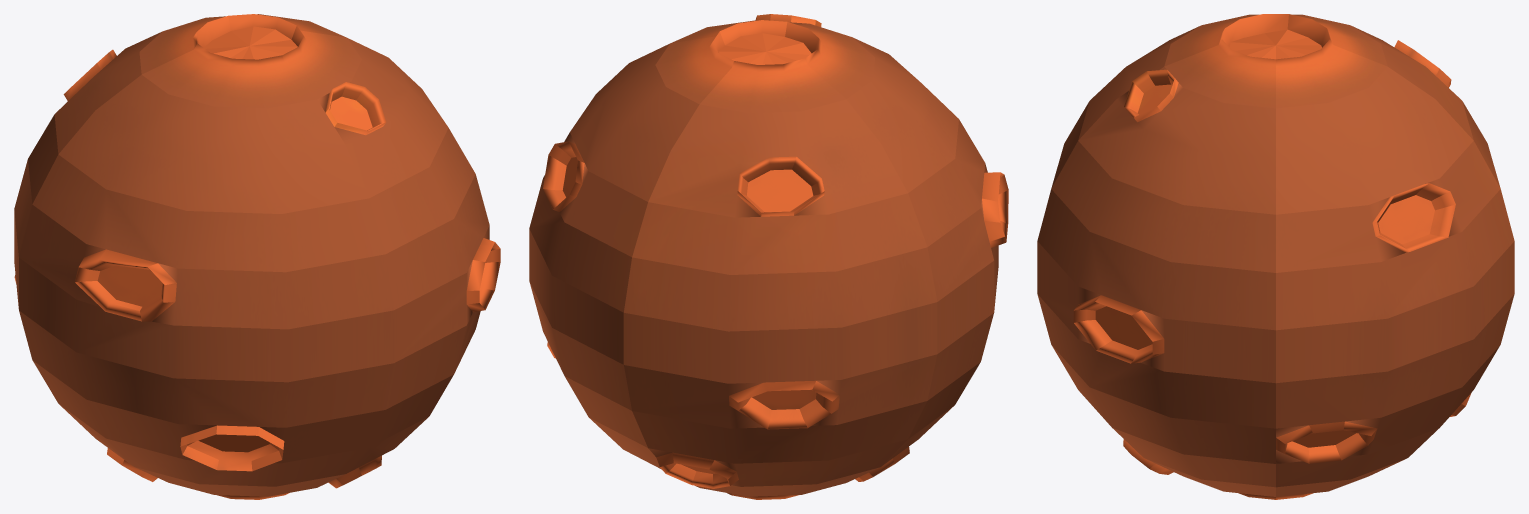
The model's file is Komeet enemy versie 2.fbx.
The picture shows the model from 3 angles, left to right: view 1: azimuth 30°, elevation 25°; view 2: azimuth 150°, elevation 25°; view 3: azimuth 270°, elevation 25°; orthographic projection.
Parts seen in each view (by area): view 1: komeet; view 2: komeet; view 3: komeet.
Boxes of the visible parts, box(x1,y1,x2,y2) form: komeet: box(14, 14, 500, 499); komeet: box(529, 14, 1008, 499); komeet: box(1037, 14, 1514, 499).
Bounding box in the file's own units: 149 × 150 × 148.
Materials: 1 (1 with a texture image).
